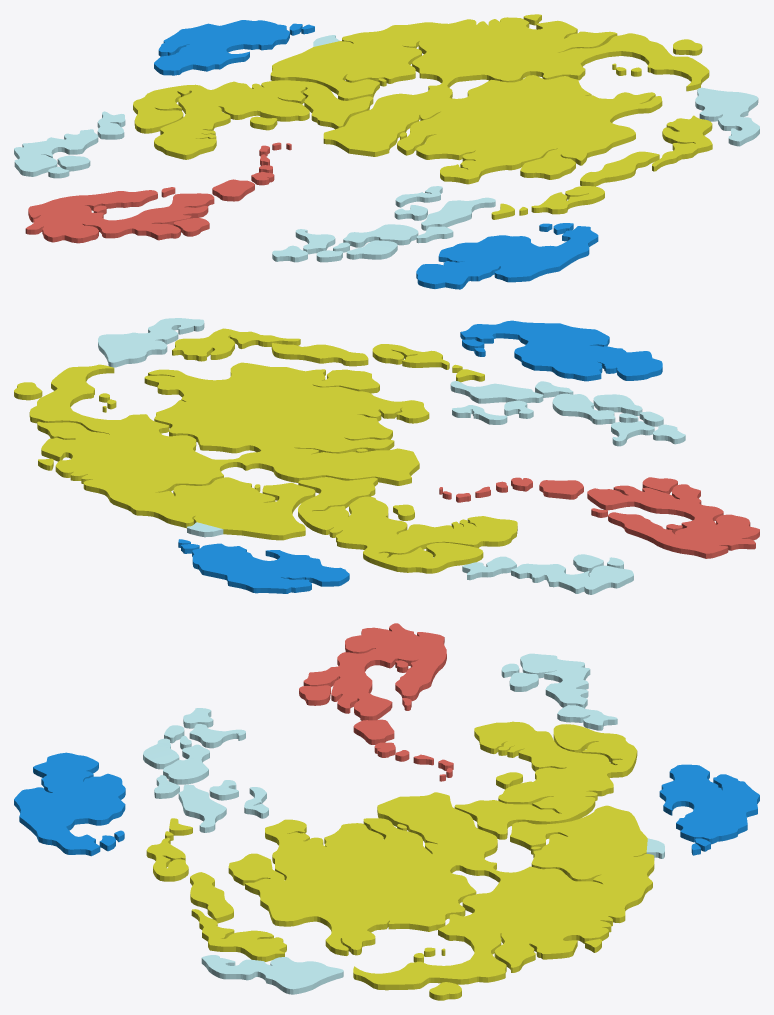
File: Mapa-Roku.fbx
3 views of the same model, one above another, from view 1: azimuth 30°, elevation 25°; view 2: azimuth 150°, elevation 25°; view 3: azimuth 270°, elevation 25° (orthographic). The views are drawn at different scales.
Parts seen in each view (by area): view 1: Reino Tierra, Tribu Aire, Nacion del Fuego, Tribu Agua Sur, Tribu Agua Norte; view 2: Reino Tierra, Tribu Aire, Nacion del Fuego, Tribu Agua Sur, Tribu Agua Norte; view 3: Reino Tierra, Tribu Aire, Nacion del Fuego, Tribu Agua Sur, Tribu Agua Norte.
Boxes of the visible parts, bbox=[...] form: Reino Tierra: bbox=[133, 14, 712, 219]; Tribu Aire: bbox=[14, 35, 759, 262]; Nacion del Fuego: bbox=[25, 142, 291, 243]; Tribu Agua Sur: bbox=[416, 223, 598, 289]; Tribu Agua Norte: bbox=[154, 20, 314, 75]; Reino Tierra: bbox=[14, 328, 517, 573]; Tribu Aire: bbox=[98, 318, 685, 594]; Nacion del Fuego: bbox=[439, 477, 759, 558]; Tribu Agua Sur: bbox=[460, 320, 662, 381]; Tribu Agua Norte: bbox=[178, 539, 349, 593]; Reino Tierra: bbox=[146, 721, 654, 1000]; Tribu Aire: bbox=[143, 653, 664, 994]; Nacion del Fuego: bbox=[299, 623, 453, 781]; Tribu Agua Sur: bbox=[14, 752, 125, 856]; Tribu Agua Norte: bbox=[659, 764, 759, 855].
Size of the model in its own units: 441 by 3.15 by 373.
